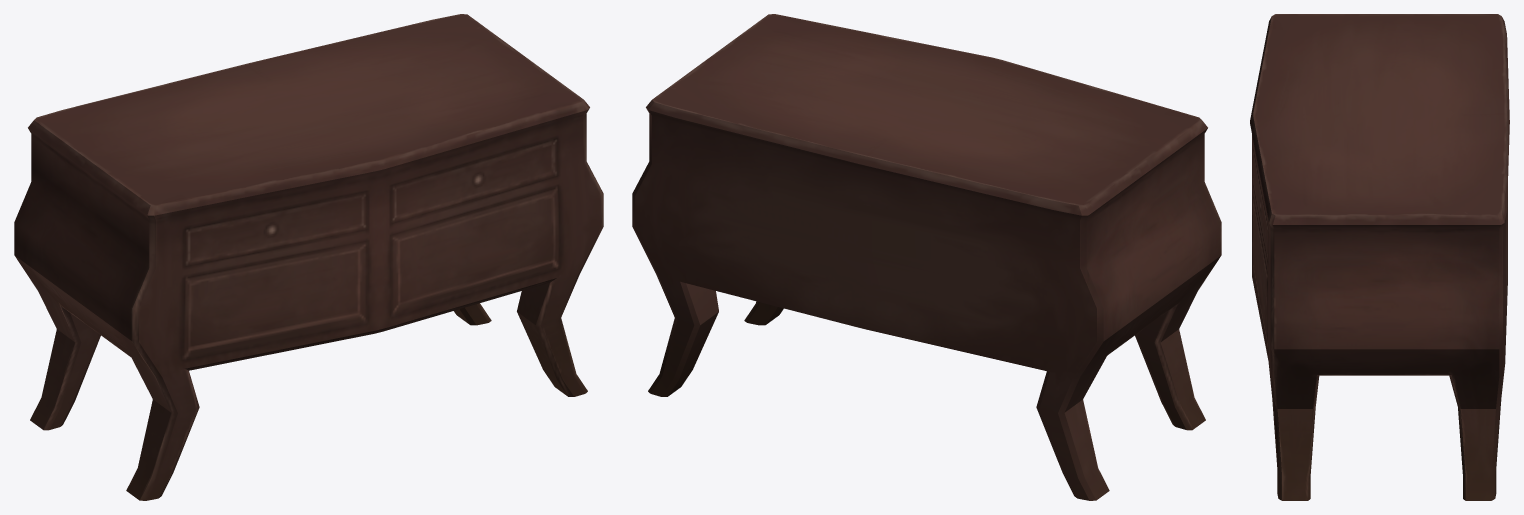
The model's file is Mebel_01.fbx.
3 renders of one model, left to right at view 1: azimuth 30°, elevation 25°; view 2: azimuth 150°, elevation 25°; view 3: azimuth 270°, elevation 25°, orthographic. The views are drawn at different scales.
Visible parts, largest first — view 1: dresser; view 2: dresser; view 3: dresser.
Part boxes in pixels (bbox=[...]): dresser: bbox=[14, 14, 603, 500]; dresser: bbox=[632, 14, 1221, 500]; dresser: bbox=[1250, 14, 1509, 500].
Size of the model in its own units: 596 by 357 by 298.
